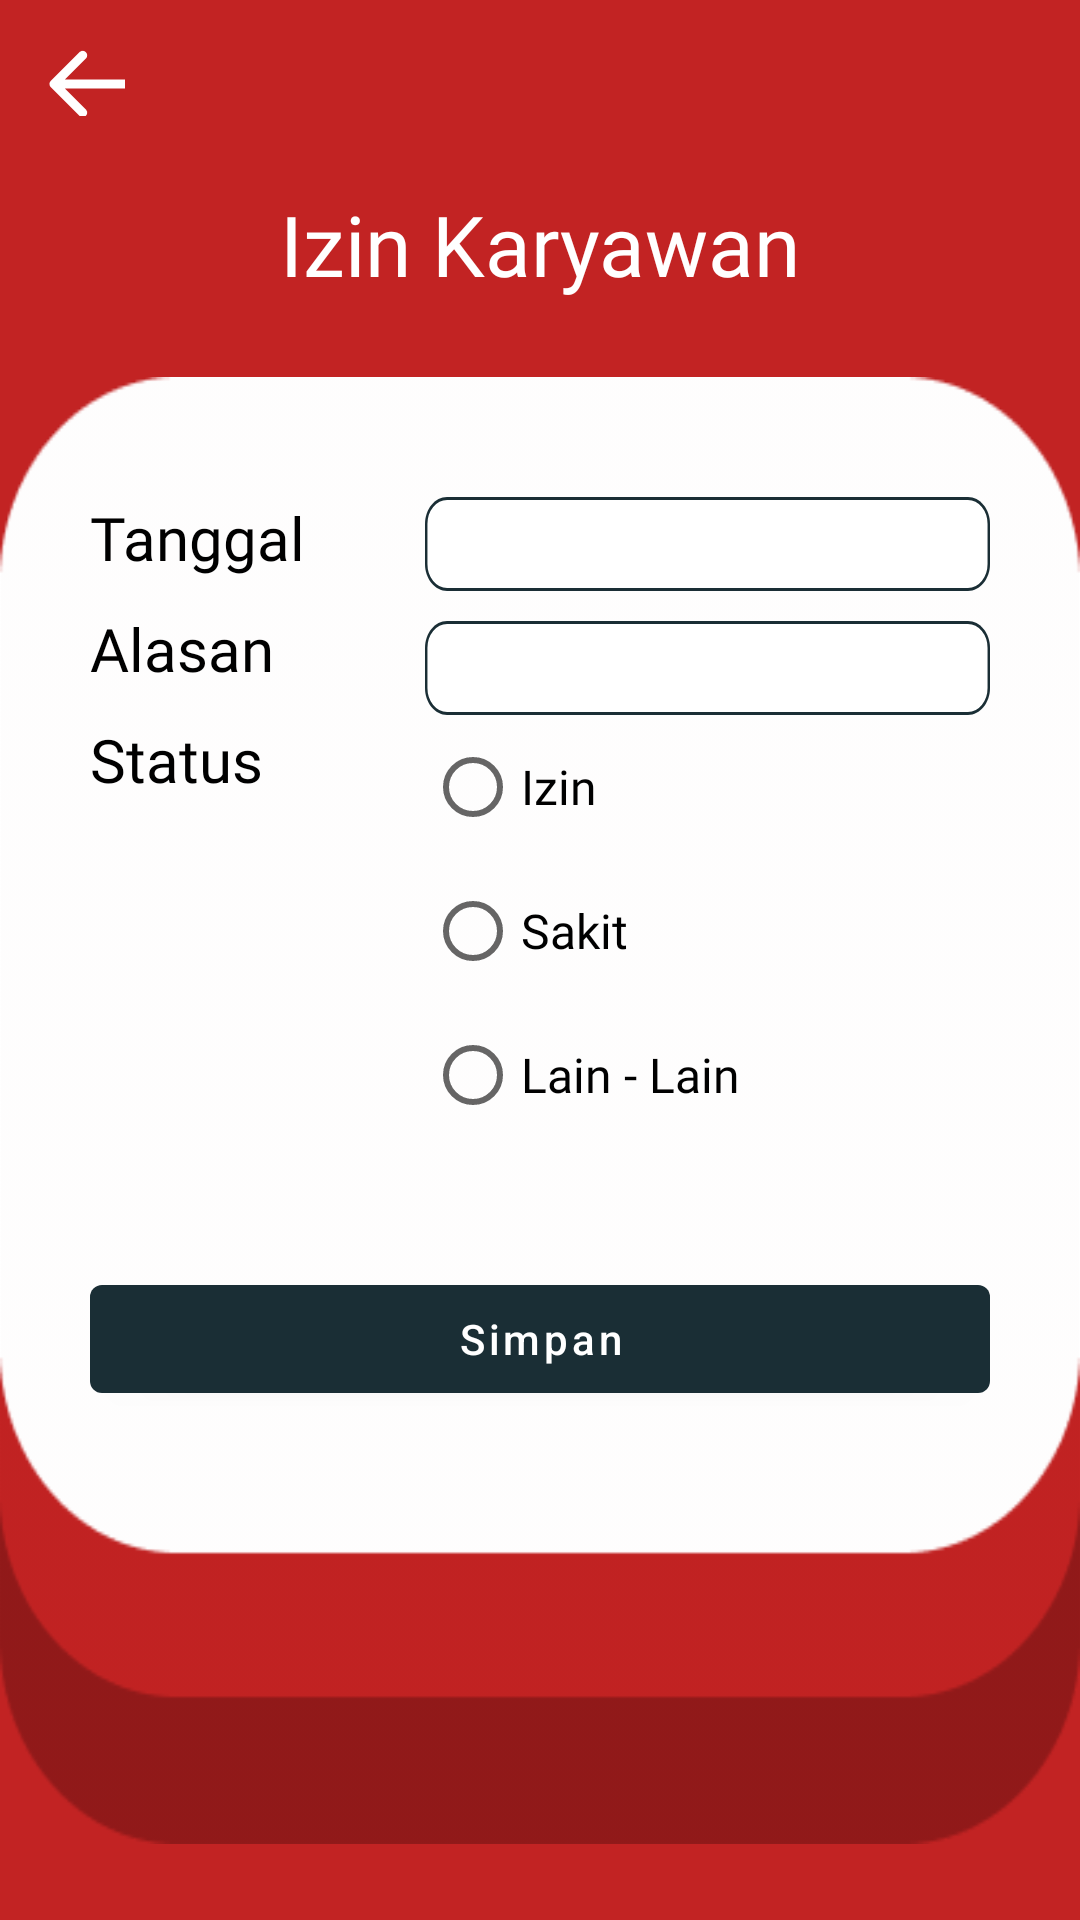

Icon bounding boxes for this 1080×1920 phone screenshot, format (x1, y1, x2, y2):
back: (49, 50, 125, 116)
